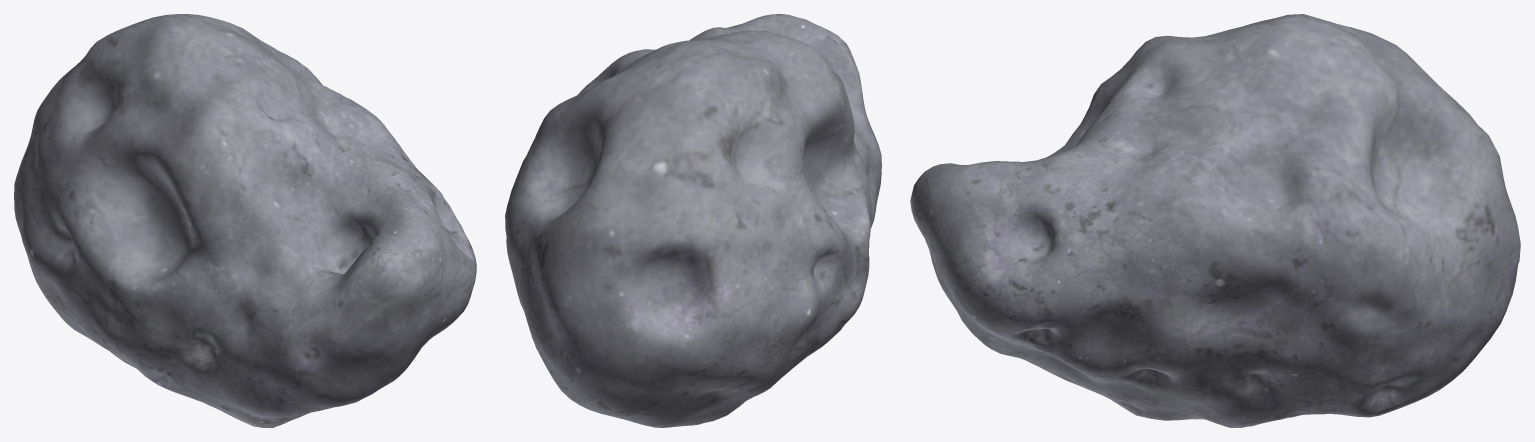
File: asteroid.fbx
3 views of the same model, side by side, from view 1: azimuth 30°, elevation 25°; view 2: azimuth 150°, elevation 25°; view 3: azimuth 270°, elevation 25° (orthographic). The views are drawn at different scales.
Parts seen in each view (by area): view 1: asteroid_uv:Group1; view 2: asteroid_uv:Group1; view 3: asteroid_uv:Group1.
Boxes of the visible parts, <box> form: asteroid_uv:Group1: <box>14,14,476,427</box>; asteroid_uv:Group1: <box>505,14,881,427</box>; asteroid_uv:Group1: <box>910,14,1520,427</box>.
Bounding box in the file's own units: 46.98 × 53.92 × 77.41.
